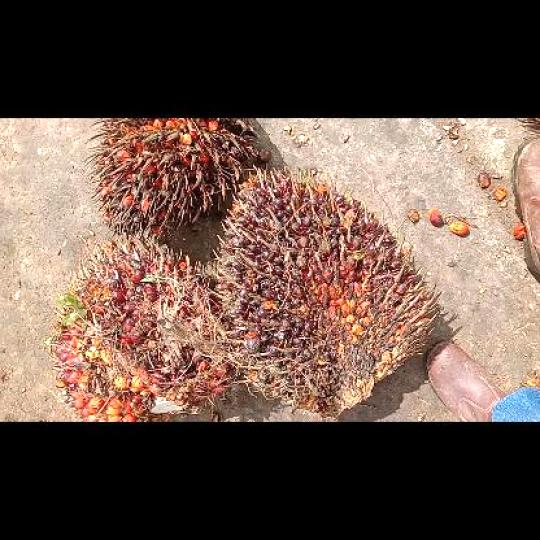kurang masak: (215, 167, 434, 420)
masak: (53, 236, 233, 421)
terlalu masak: (94, 118, 269, 235)
